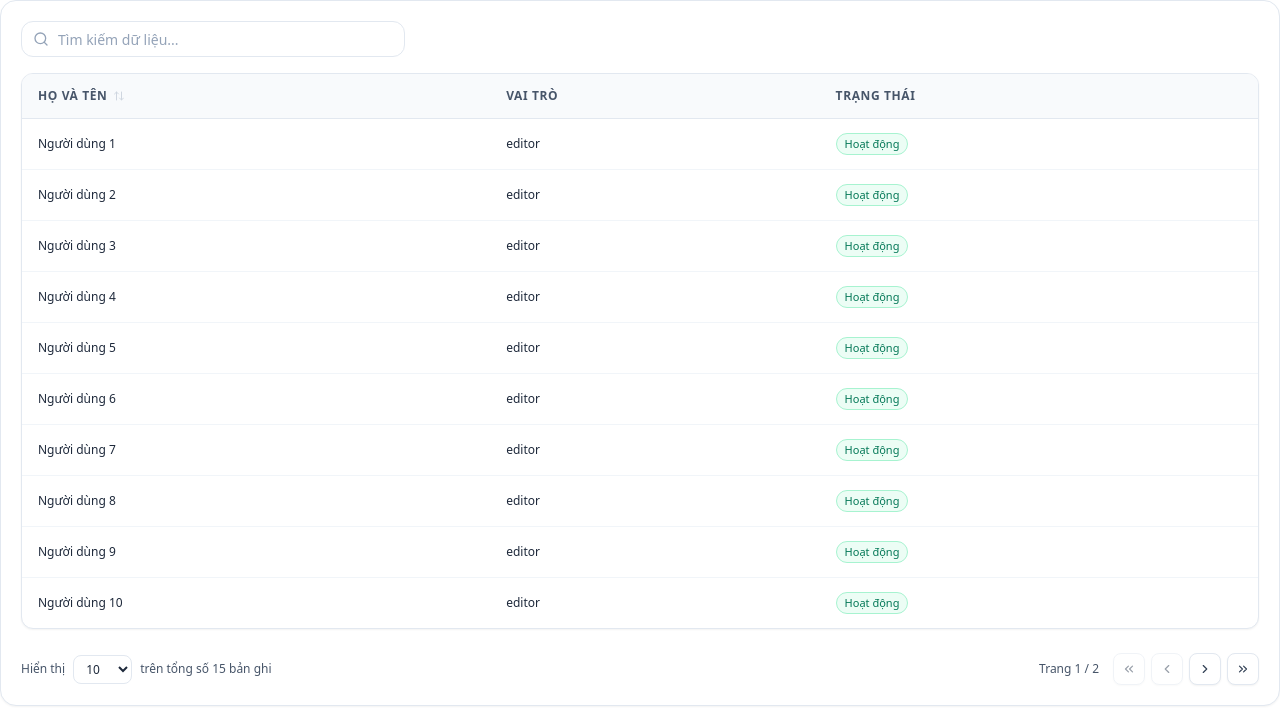
Scenario: Common Business Components › DataTable Component › hỗ trợ phân trang: chuyển trang tiếp theo và trang trước đó
Expected: the text "Người dùng 1" is shown, [22, 118, 490, 170]
Expected: the text "Người dùng 10" is shown, [22, 578, 490, 628]
Note: Nhấp nút trang sau
Click the button titled "Trang sau". click: (1205,669)
box: [1189, 653, 1221, 685]
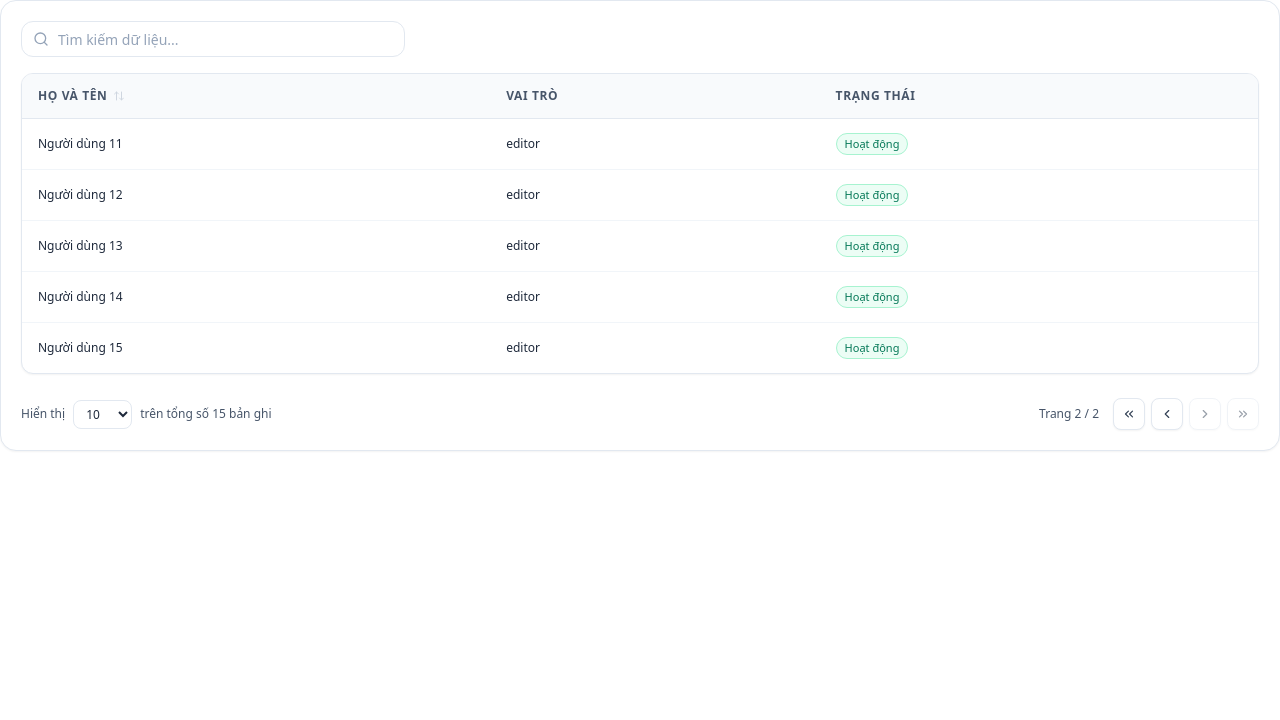
Expected: the text "Người dùng 11" is shown, [22, 118, 490, 170]
Expected: the text "Người dùng 15" is shown, [22, 322, 490, 373]
Expected: the text "Trang 2 / 2" is shown, [1039, 406, 1099, 422]
